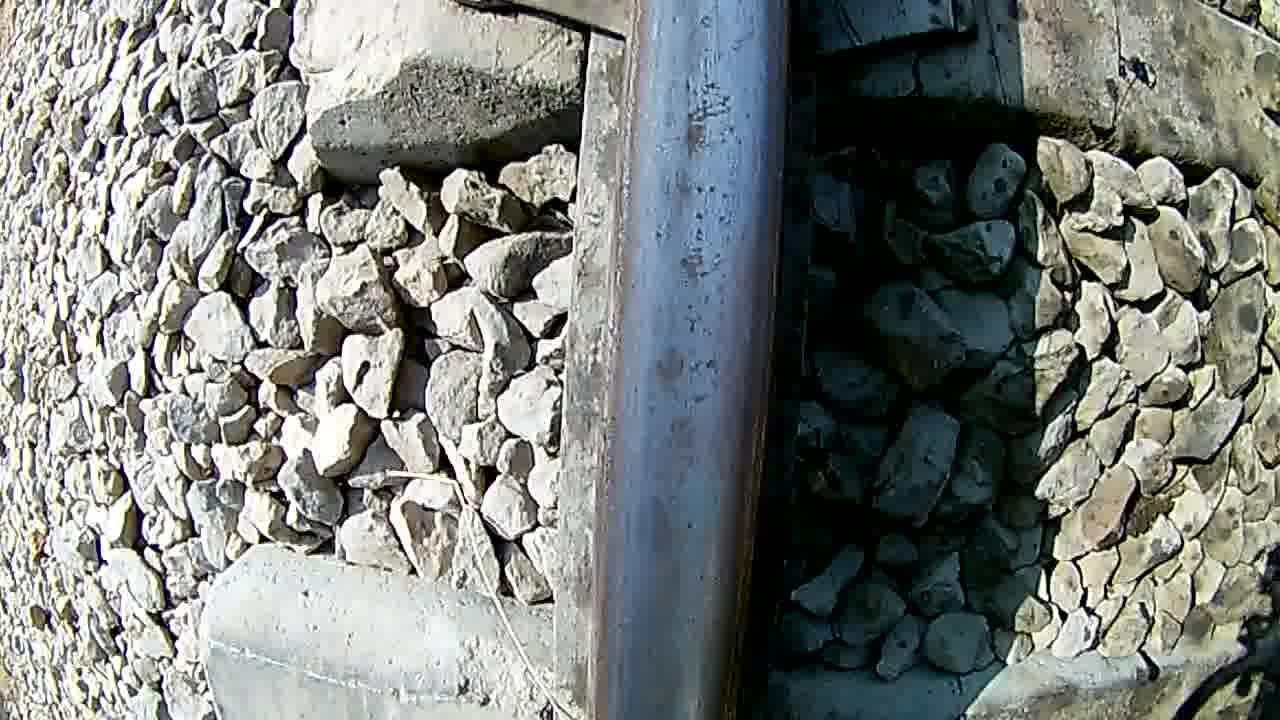crack: (599, 1, 777, 720)
